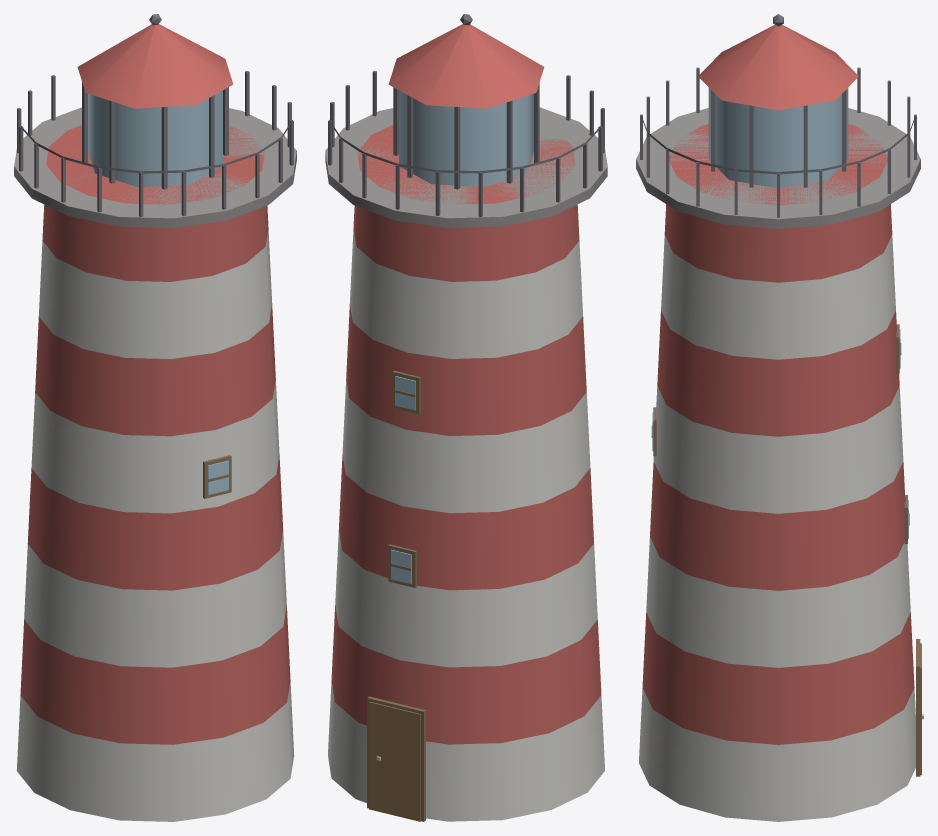
The model's file is lighthouse.glb.
3 views of the same model, side by side, from view 1: azimuth 30°, elevation 25°; view 2: azimuth 150°, elevation 25°; view 3: azimuth 270°, elevation 25° (orthographic).
Visible parts, largest first — view 1: lighthouse; view 2: lighthouse; view 3: lighthouse.
Boxes of the visible parts, x1=… form: lighthouse: x1=14, y1=14, x2=296, y2=821; lighthouse: x1=325, y1=14, x2=607, y2=821; lighthouse: x1=636, y1=14, x2=923, y2=821.
Bounding box in the file's own units: 5.3 × 15.35 × 5.36.
